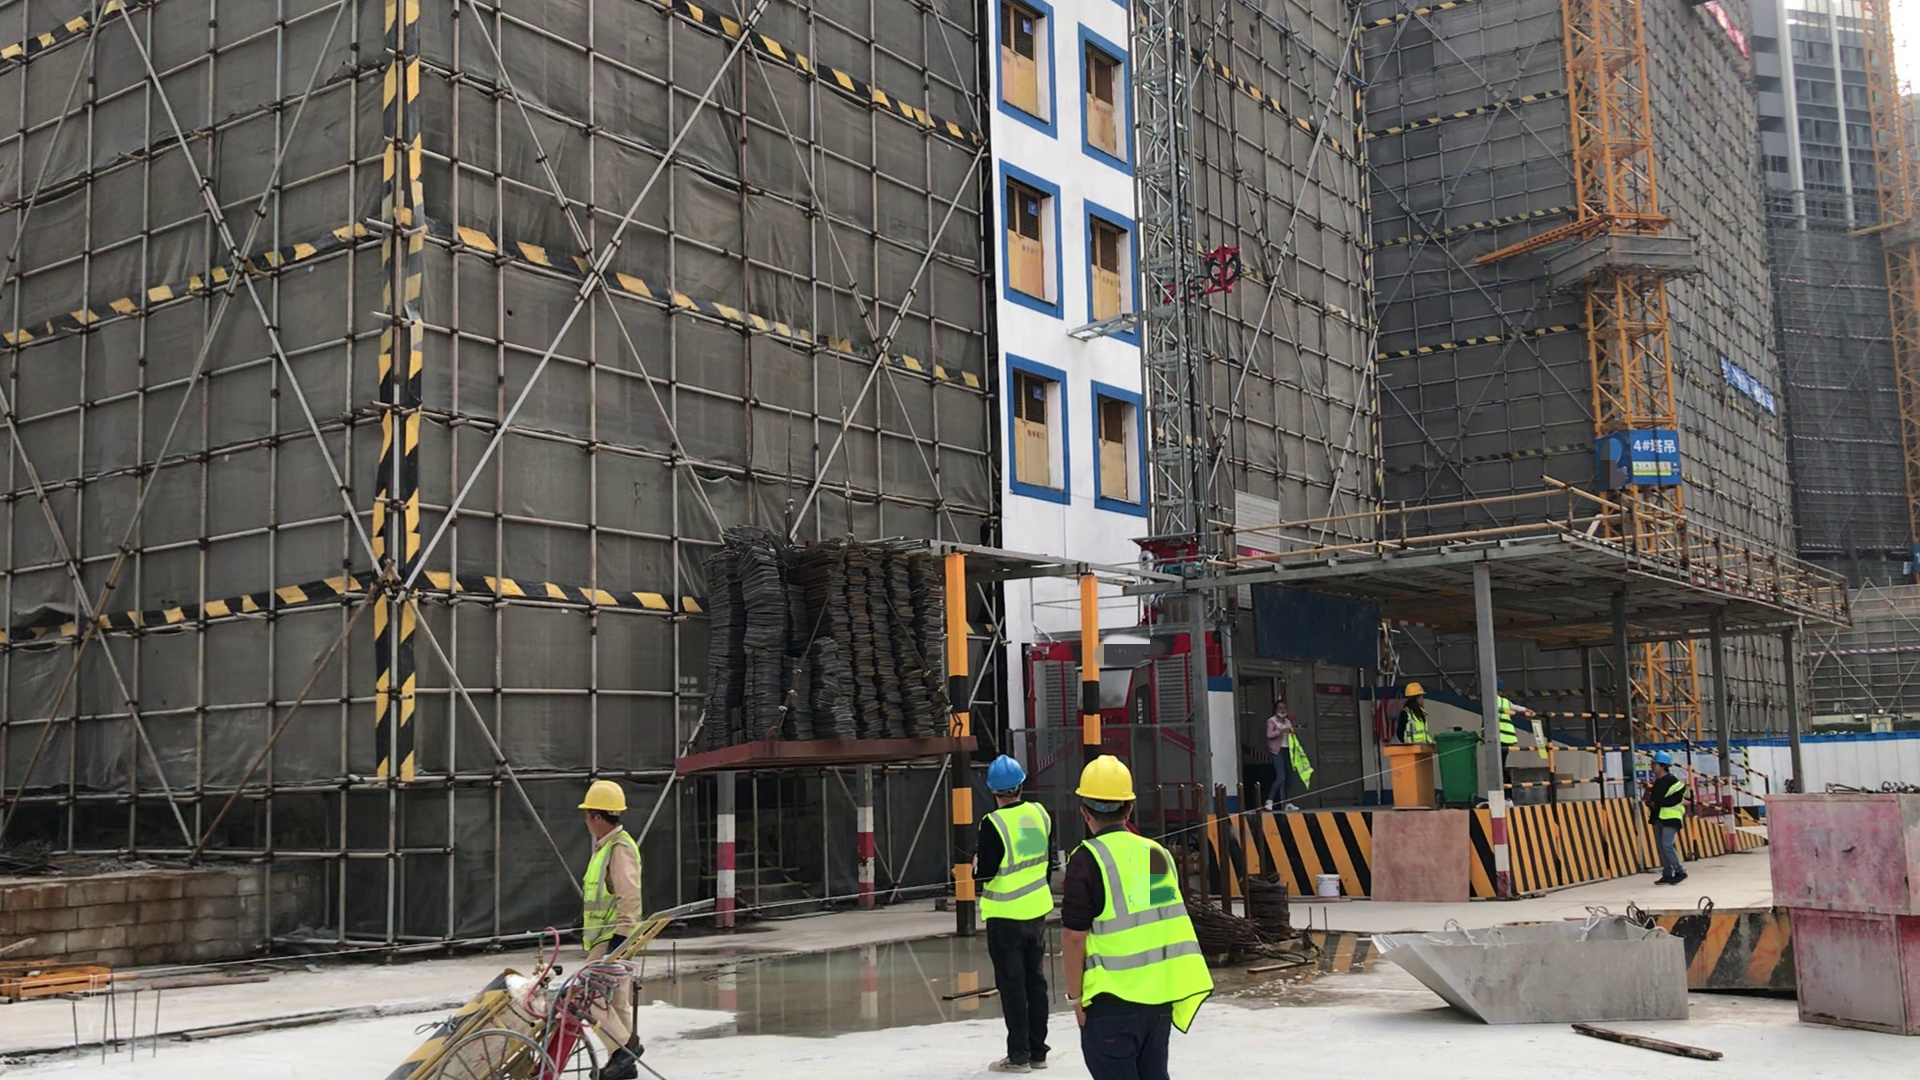helmet: (1074, 754, 1150, 820), (567, 768, 638, 827), (979, 746, 1036, 801), (1400, 682, 1431, 704), (1651, 748, 1678, 770), (1492, 675, 1515, 697)
person: (1055, 738, 1213, 1080), (538, 749, 693, 1038), (962, 731, 1058, 1080), (1643, 742, 1708, 891), (1475, 668, 1546, 795), (1258, 689, 1320, 820), (1388, 665, 1444, 770)
vest: (1071, 826, 1216, 1039), (971, 799, 1052, 934), (578, 830, 647, 946), (1643, 769, 1702, 837), (1276, 720, 1332, 789), (1486, 693, 1532, 755), (1394, 703, 1437, 745)
